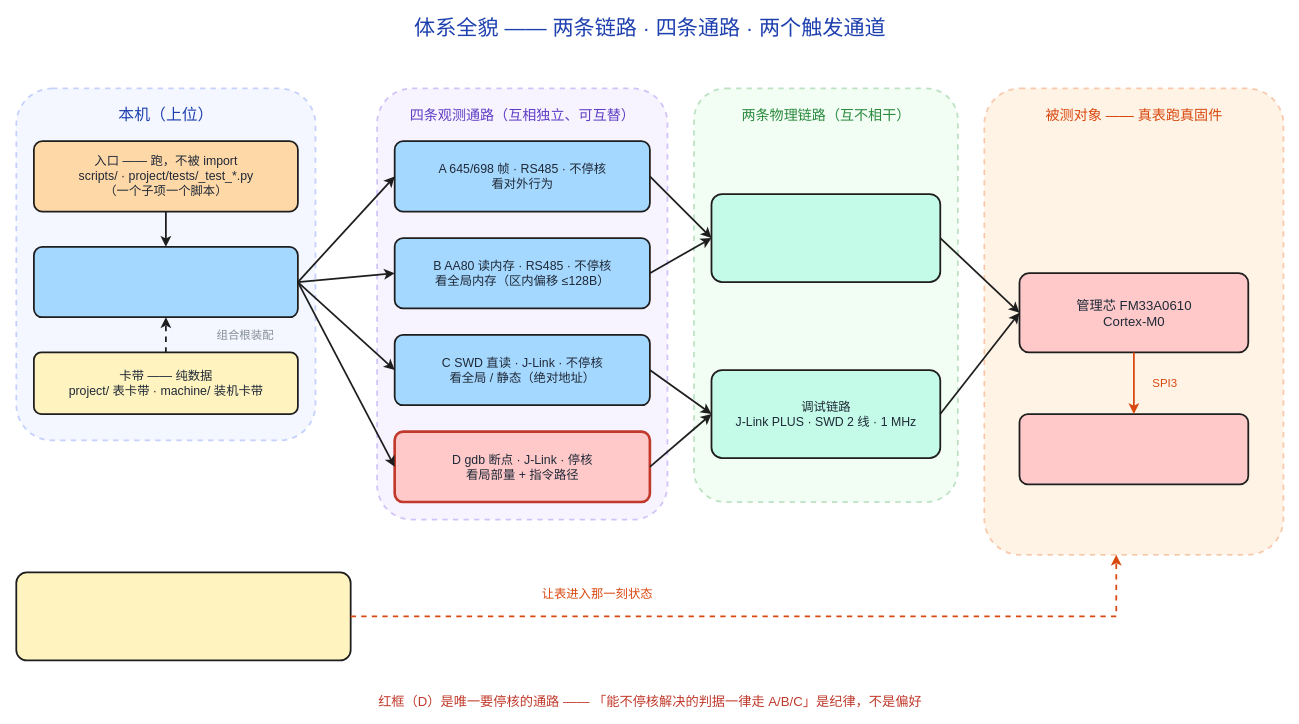
Some shapes in this 1299 by 724 pixel diagram are drawn without their labels. Each missing label, with the box of its shape:
两个触发通道 ① 发帧 —— 默认，能用帧造的一律用帧 ② 注入 —— 帧造不出的状态（越界值 / 恰好差 1s）: (15, 571, 351, 661)
串口链路 USB-485 桥 CP210x · RS485 9600 8E1: (710, 193, 941, 282)
库 —— 认协议 / 认硬件，不认表 meterlib（A/B 路）· swdbg（C/D 路） common（中立层）: (33, 246, 298, 318)
计量芯 HT7032: (1018, 413, 1249, 485)
